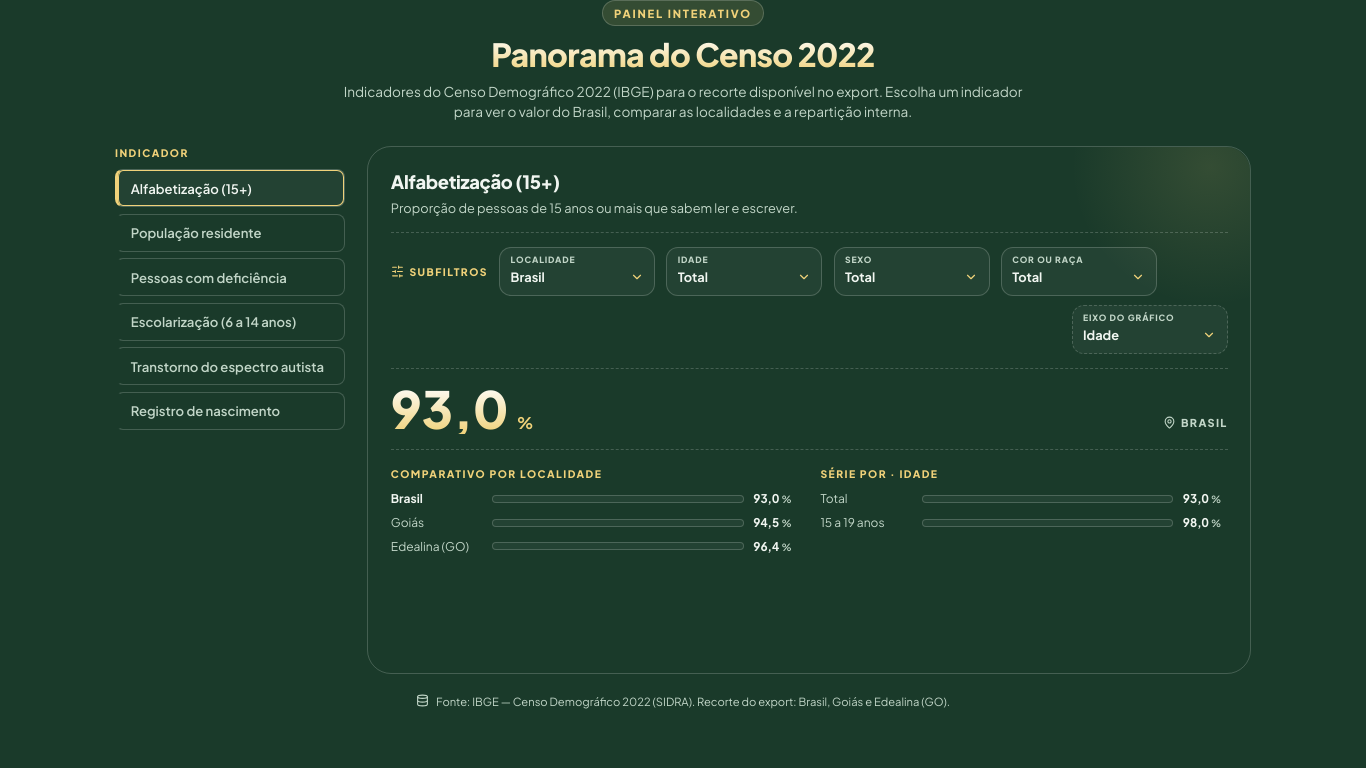
Test: Dashboard — painel interativo › troca o eixo da série
Step 1. Click the button with aria-label "EIXO DO GRÁFICO" → coordinates (1150, 335), box [1083,325,1216,345]
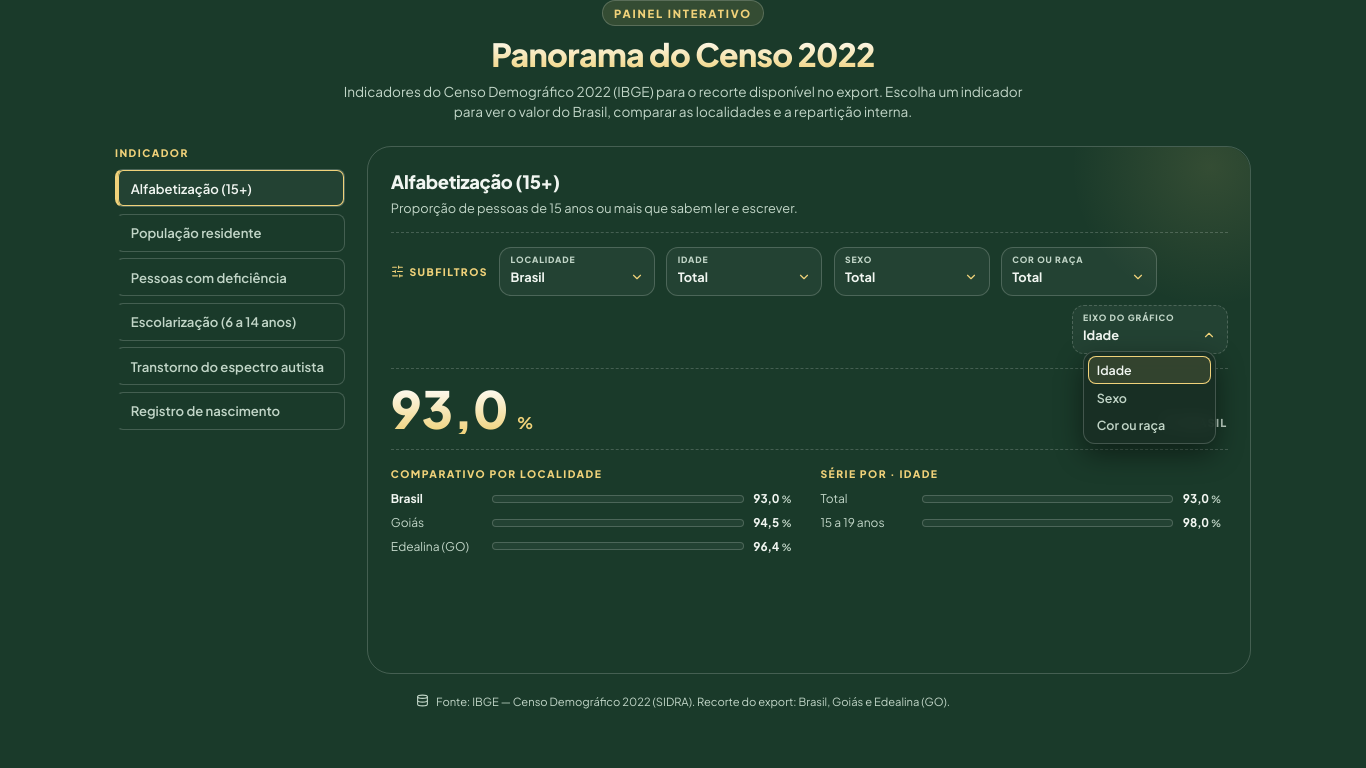
Step 2. Click the option "Sexo" → coordinates (1112, 398), box [1097,390,1127,406]
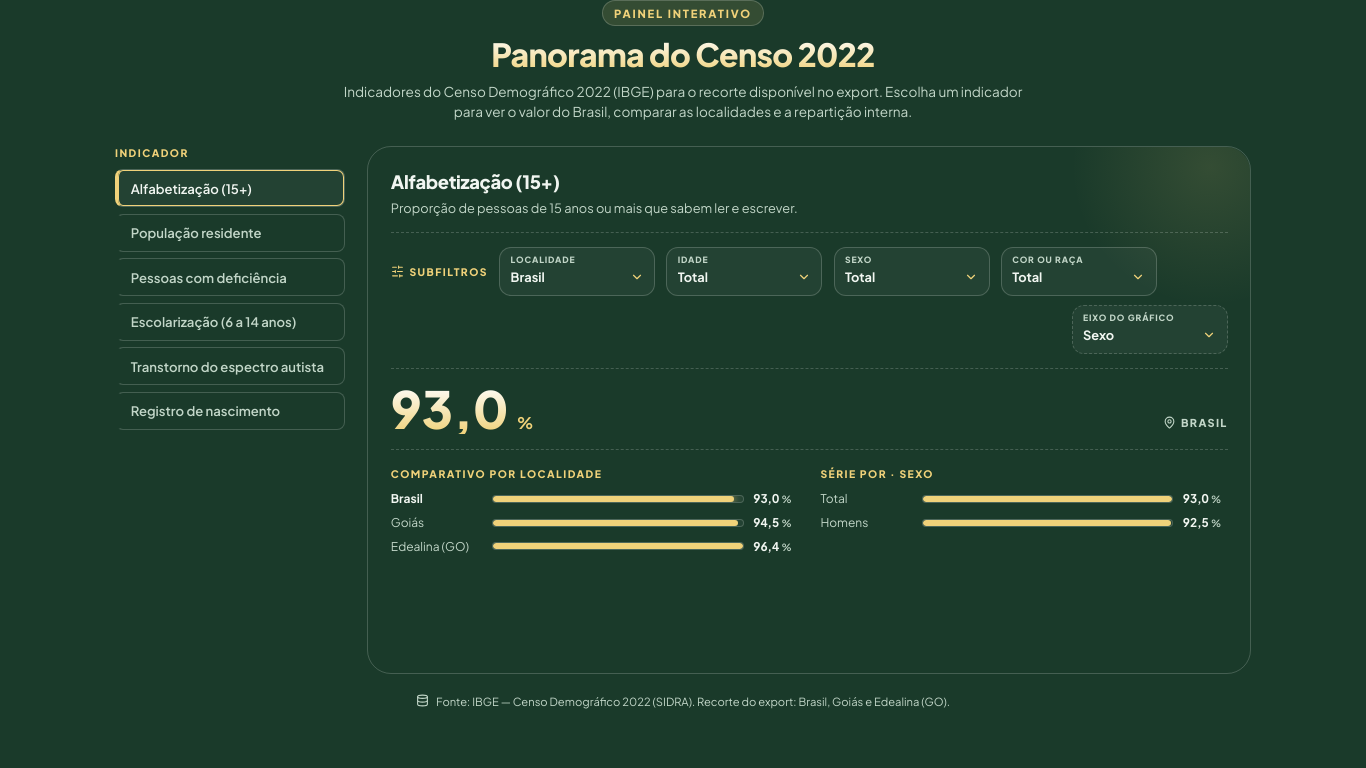
Result: the text "SÉRIE POR · Sexo" is shown at [820,467,934,480]
